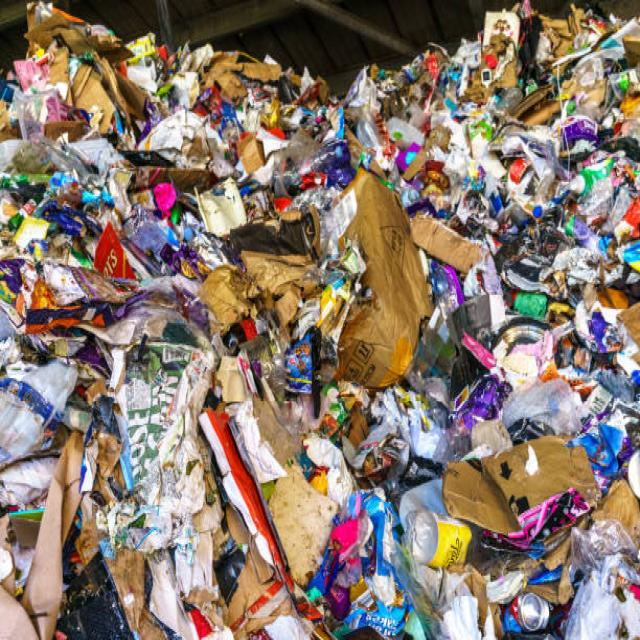cardboard: (329, 176, 410, 372), (208, 215, 311, 339), (447, 455, 594, 518)
plastic: (1, 406, 391, 638), (4, 148, 200, 282), (398, 512, 498, 578)
